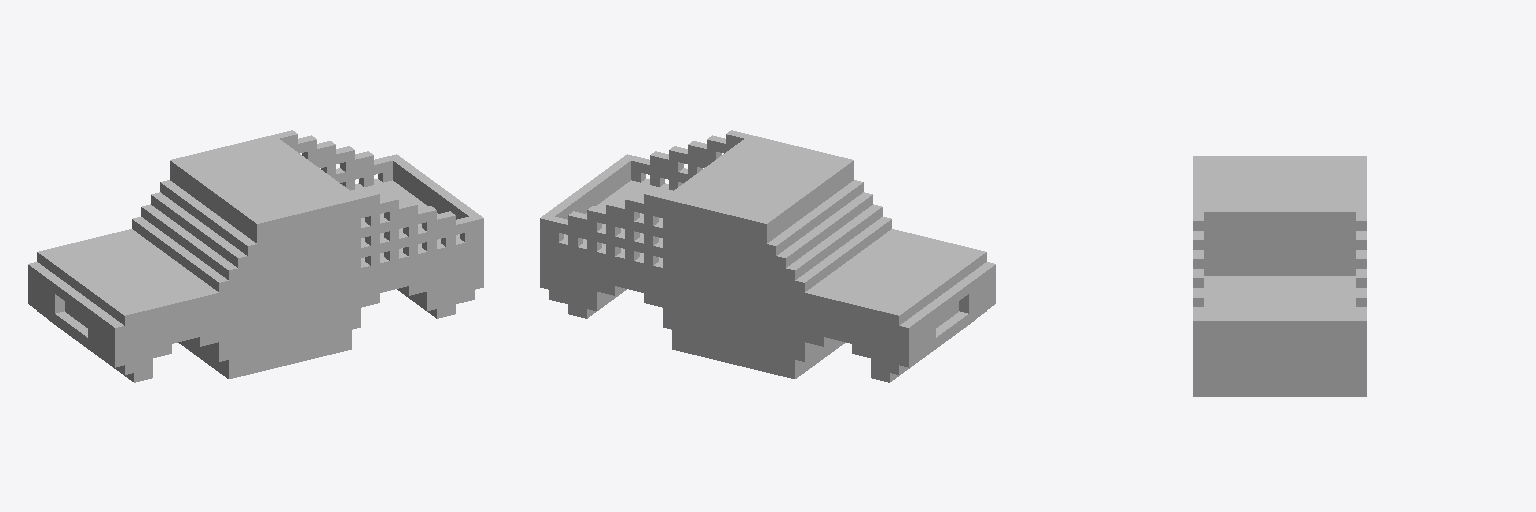
Rendered from pickup.obj.
The picture shows the model from 3 angles: view 1: azimuth 30°, elevation 25°; view 2: azimuth 150°, elevation 25°; view 3: azimuth 270°, elevation 25°; orthographic projection.
Visible parts, largest first — view 1: Untitled.049; view 2: Untitled.049; view 3: Untitled.049.
Part boxes in pixels (left/top/right/bottom): Untitled.049: left=28, top=130, right=483, bottom=382; Untitled.049: left=540, top=130, right=995, bottom=382; Untitled.049: left=1193, top=156, right=1366, bottom=396.
Bounding box in the file's own units: 3.9 × 1.5 × 1.6.